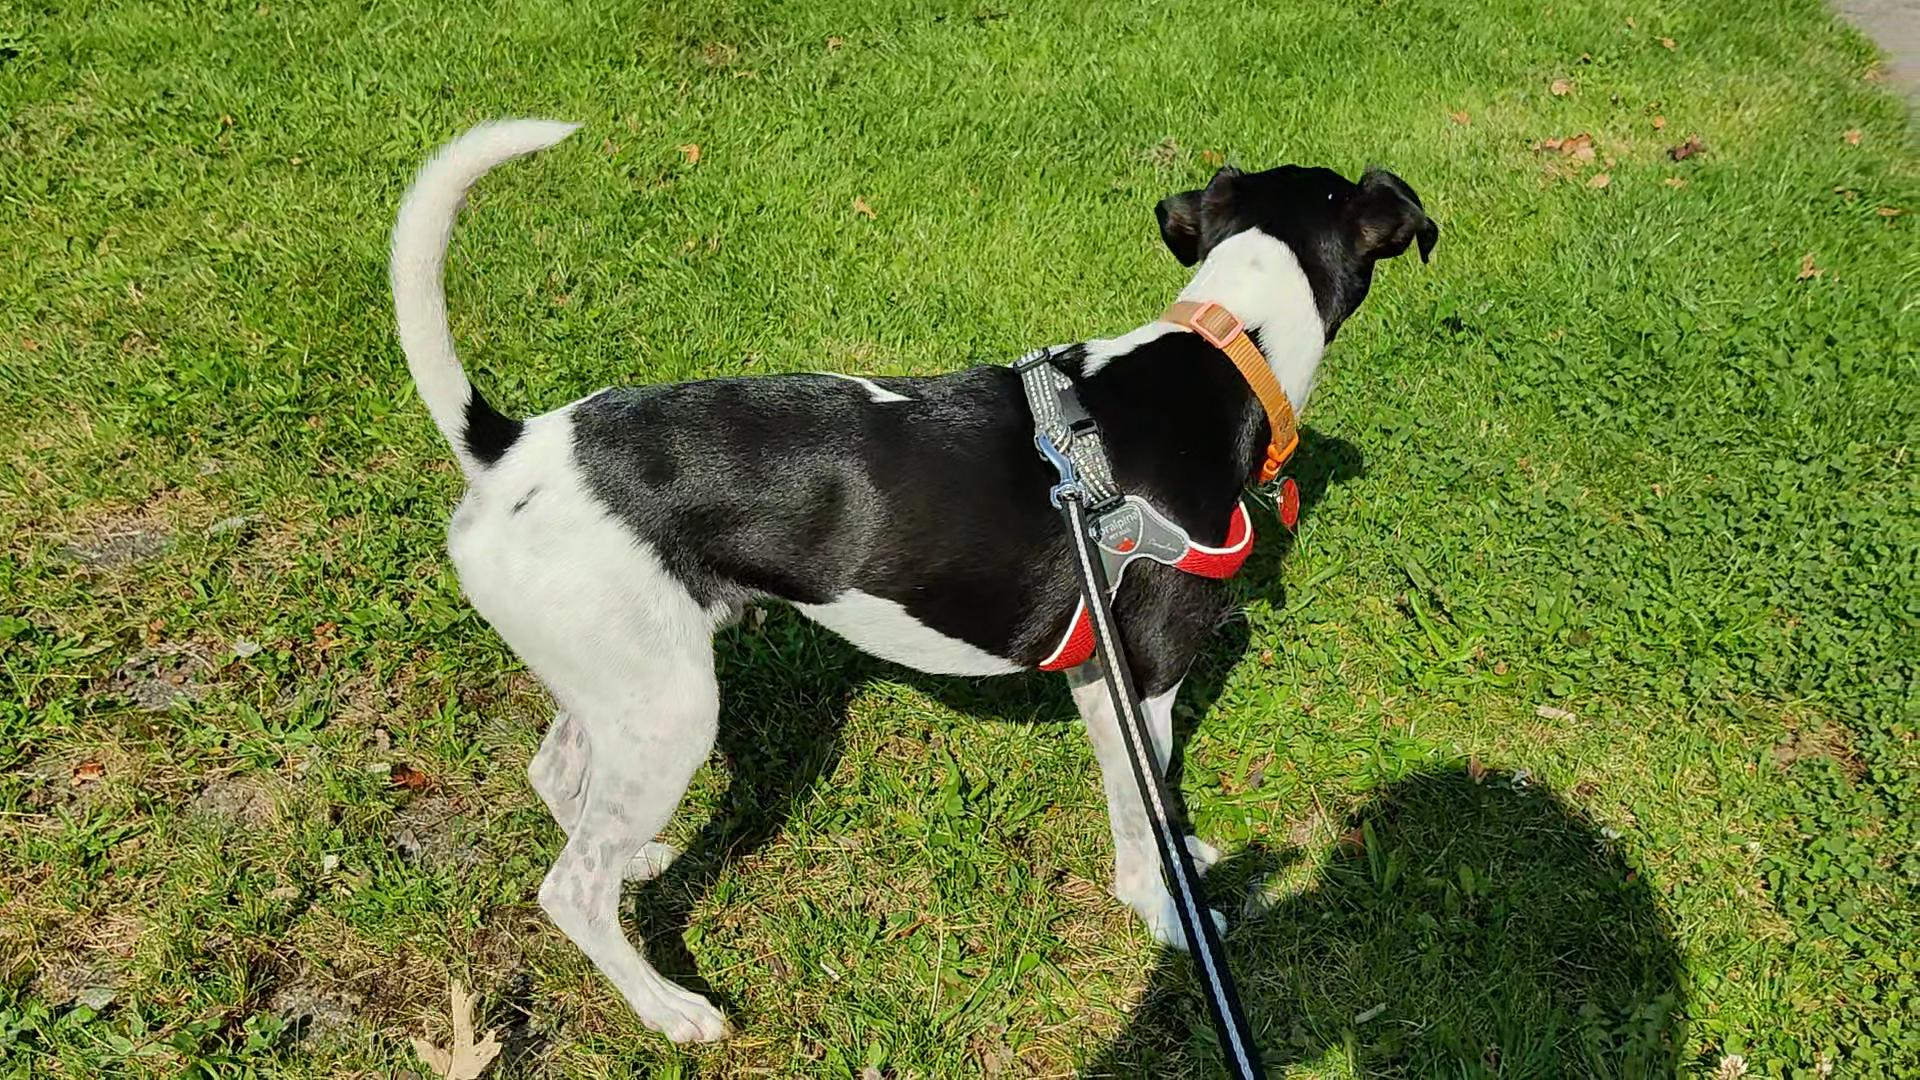Dog: (380, 109, 1445, 1046)
